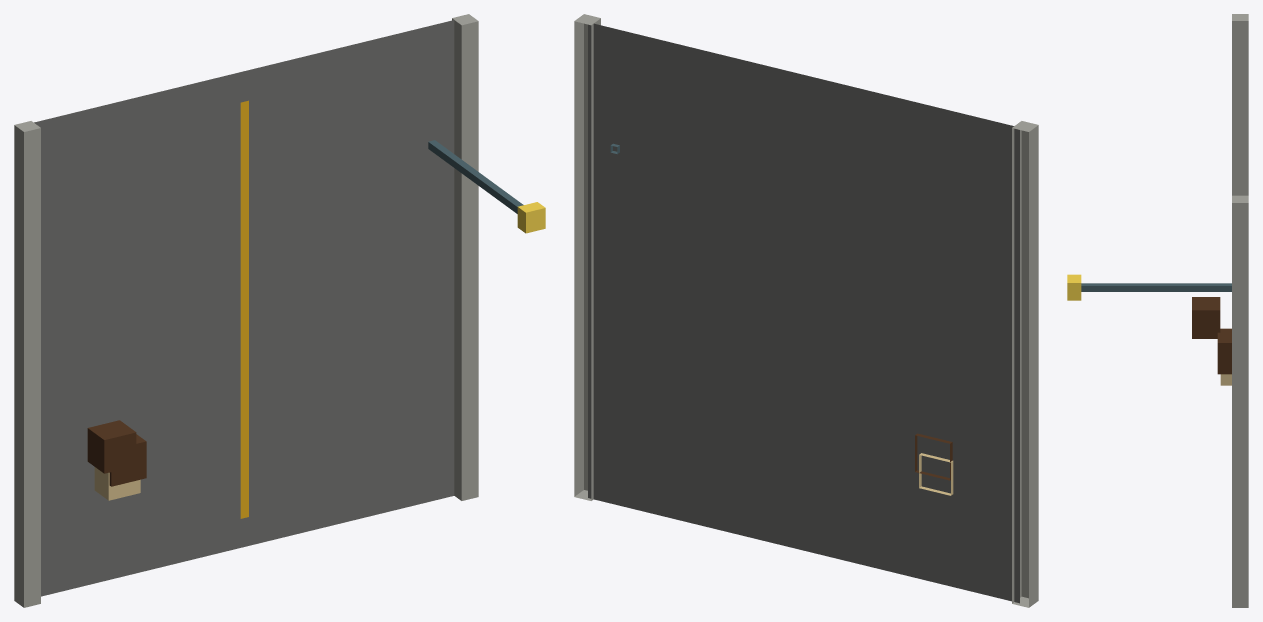
Rendered from land.glb.
3 renders of one model, left to right at view 1: azimuth 30°, elevation 25°; view 2: azimuth 150°, elevation 25°; view 3: azimuth 270°, elevation 25°, orthographic. The views are drawn at different scales.
Visible parts, largest first — view 1: dock_land; view 2: dock_land; view 3: dock_land.
Boxes of the visible parts, x1,y1,x2,y2 form: dock_land: (14,14,545,607); dock_land: (574,14,1038,607); dock_land: (1067,14,1248,607).
Size of the model in its own units: 16 by 16 by 6.5.
